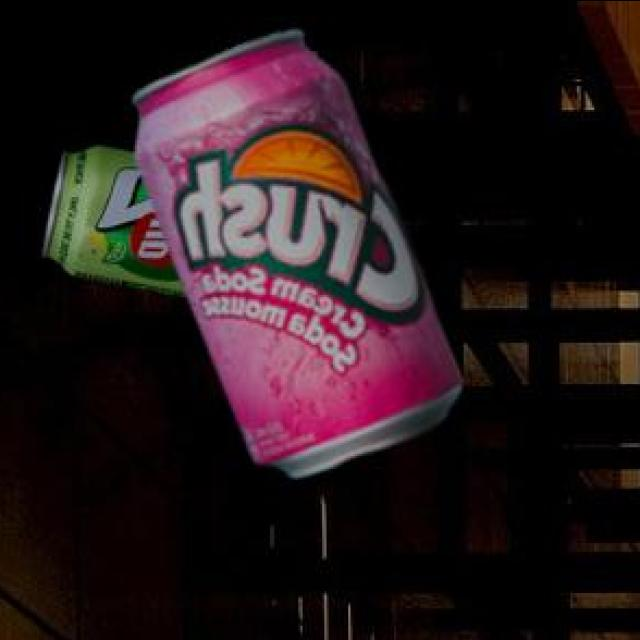logam: (138, 34, 465, 480), (45, 149, 190, 298)
